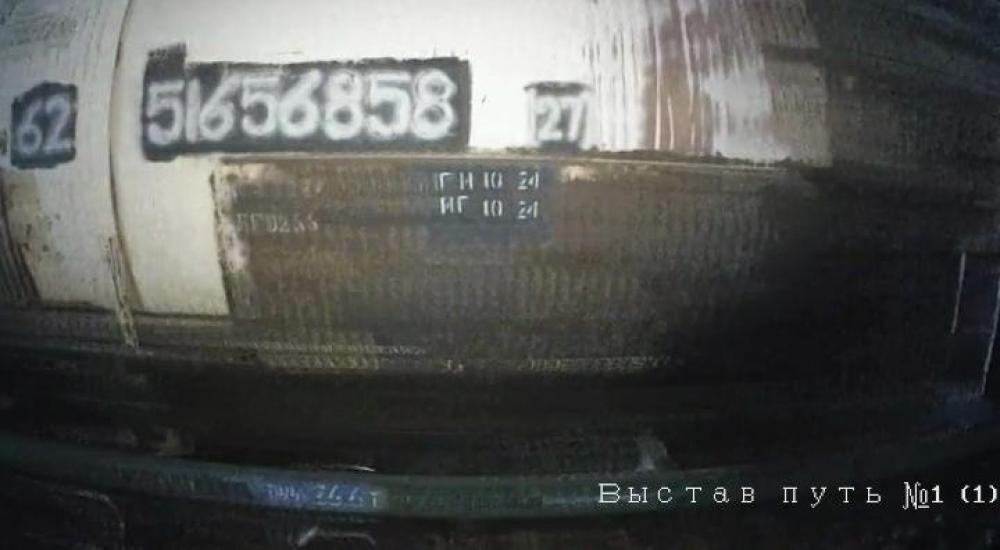Wagon-number: (144, 64, 461, 146)
